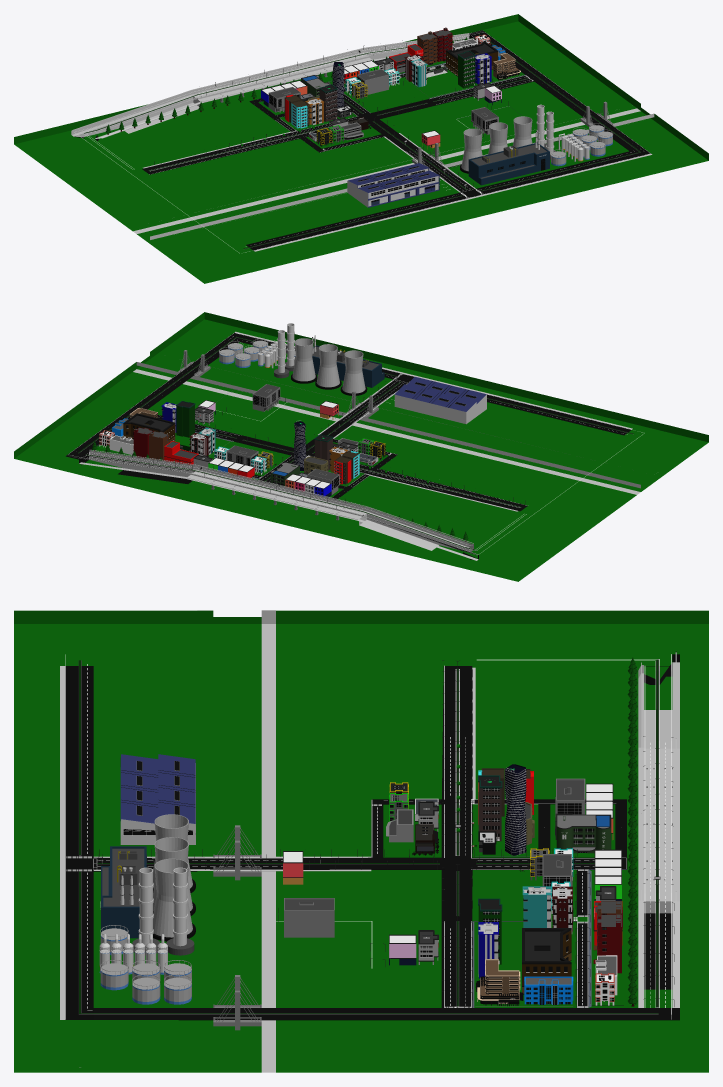
File: city_outer.glb
The picture shows the model from 3 angles, top to bottom: view 1: azimuth 30°, elevation 25°; view 2: azimuth 150°, elevation 25°; view 3: azimuth 270°, elevation 25°; orthographic projection. The views are drawn at different scales.
Visible parts, largest first — view 1: Plane, Cube271, Cube016, Cube249, Cube430, Cube429, Cube239, Cube257, Cube256, Cube250, Circle020, Cube725 (+16 smaller); view 2: Plane, Cube271, Cube249, Cube016, Cube256, Cube239, Cube257, Cube429, Circle018, Cube430, Circle019, Circle020 (+13 smaller); view 3: Plane, Cube271, Cube016, Cube249, Cube239, Cube257, Cube429, Cube430, Tree_Spruce_tiny_01, Cube256, Cube725, Cube433 (+31 smaller).
Part boxes in pixels (x1=…): Plane: x1=14, y1=14, x2=708, y2=283; Cube271: x1=71, y1=31, x2=480, y2=140; Cube016: x1=246, y1=148, x2=652, y2=251; Cube249: x1=142, y1=75, x2=534, y2=174; Cube430: x1=468, y1=142, x2=549, y2=185; Cube429: x1=357, y1=170, x2=439, y2=207; Cube239: x1=469, y1=30, x2=642, y2=150; Cube257: x1=368, y1=118, x2=475, y2=192; Cube256: x1=347, y1=163, x2=429, y2=199; Cube250: x1=149, y1=78, x2=528, y2=189; Circle020: x1=460, y1=128, x2=482, y2=173; Cube725: x1=446, y1=41, x2=497, y2=76; Plane: x1=14, y1=312, x2=708, y2=581; Cube271: x1=68, y1=449, x2=478, y2=560; Cube249: x1=158, y1=415, x2=527, y2=511; Cube016: x1=227, y1=331, x2=632, y2=435; Cube256: x1=394, y1=384, x2=476, y2=424; Cube239: x1=66, y1=338, x2=238, y2=459; Cube257: x1=306, y1=379, x2=408, y2=452; Cube429: x1=407, y1=377, x2=486, y2=416; Circle018: x1=291, y1=338, x2=317, y2=383; Cube430: x1=312, y1=345, x2=384, y2=387; Circle019: x1=315, y1=344, x2=341, y2=389; Circle020: x1=340, y1=350, x2=367, y2=395; Plane: x1=14, y1=610, x2=708, y2=1072; Cube271: x1=638, y1=651, x2=679, y2=1007; Cube016: x1=60, y1=666, x2=93, y2=1019; Cube249: x1=441, y1=666, x2=475, y2=1007; Cube239: x1=93, y1=1008, x2=679, y2=1020; Cube257: x1=93, y1=856, x2=444, y2=871; Cube429: x1=120, y1=754, x2=158, y2=844; Cube430: x1=101, y1=846, x2=146, y2=938; Tree_Spruce_tiny_01: x1=627, y1=657, x2=637, y2=1006; Cube256: x1=158, y1=754, x2=195, y2=844; Cube725: x1=522, y1=928, x2=571, y2=994; Cube433: x1=556, y1=814, x2=611, y2=853.
Size of the model in its own units: 7733 by 835 by 4959.
